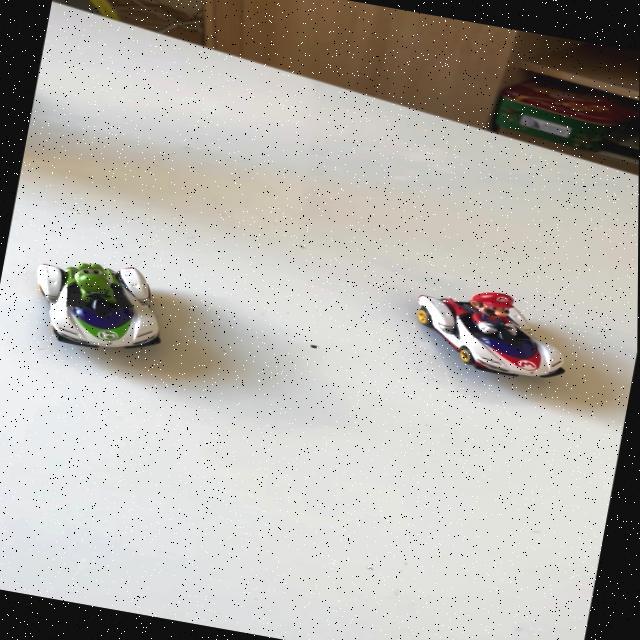mario: (392, 263, 595, 395)
yoshi: (11, 246, 195, 370)
